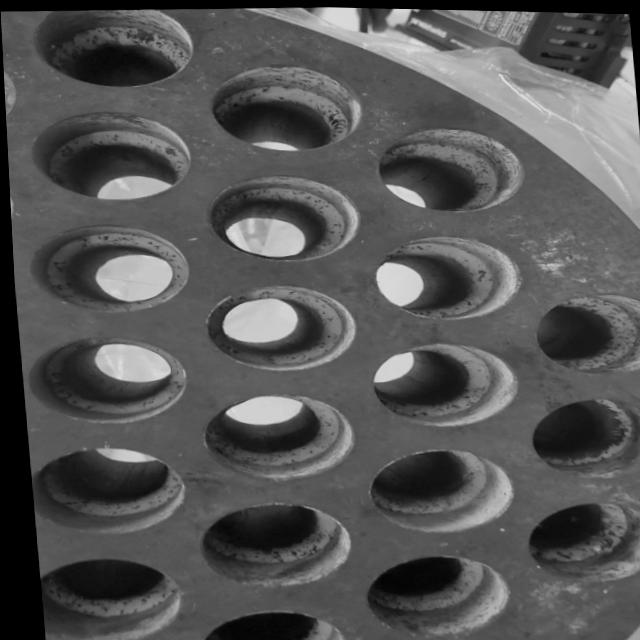Hole: (21, 220, 189, 317), (25, 108, 190, 204), (19, 333, 187, 427), (22, 443, 182, 538), (194, 390, 353, 483), (196, 280, 355, 373), (199, 171, 358, 263), (204, 61, 362, 153), (189, 498, 348, 589), (29, 5, 196, 91), (369, 121, 525, 213), (357, 444, 510, 536), (368, 231, 520, 322), (363, 338, 515, 428), (354, 550, 506, 639), (31, 554, 177, 640), (515, 496, 640, 583), (520, 392, 640, 479), (525, 288, 640, 372), (186, 606, 342, 640)
